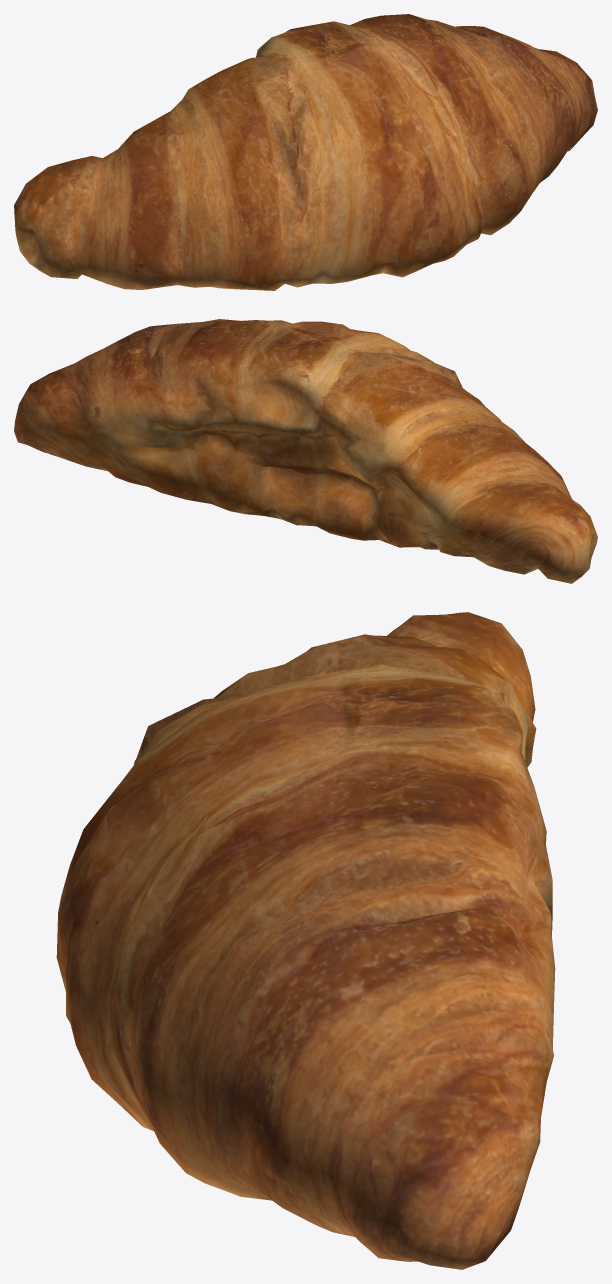
File: croissant.glb
3 renders of one model, top to bottom at view 1: azimuth 30°, elevation 25°; view 2: azimuth 150°, elevation 25°; view 3: azimuth 270°, elevation 25°, orthographic. The views are drawn at different scales.
Visible parts, largest first — view 1: croissant; view 2: croissant; view 3: croissant.
Boxes of the visible parts, x1,y1,x2,y2 form: croissant: (14,14,597,290); croissant: (14,319,597,583); croissant: (56,612,555,1269).
Size of the model in its own units: 0.2 by 0.062 by 0.0755.
1 material, 1 textured.
